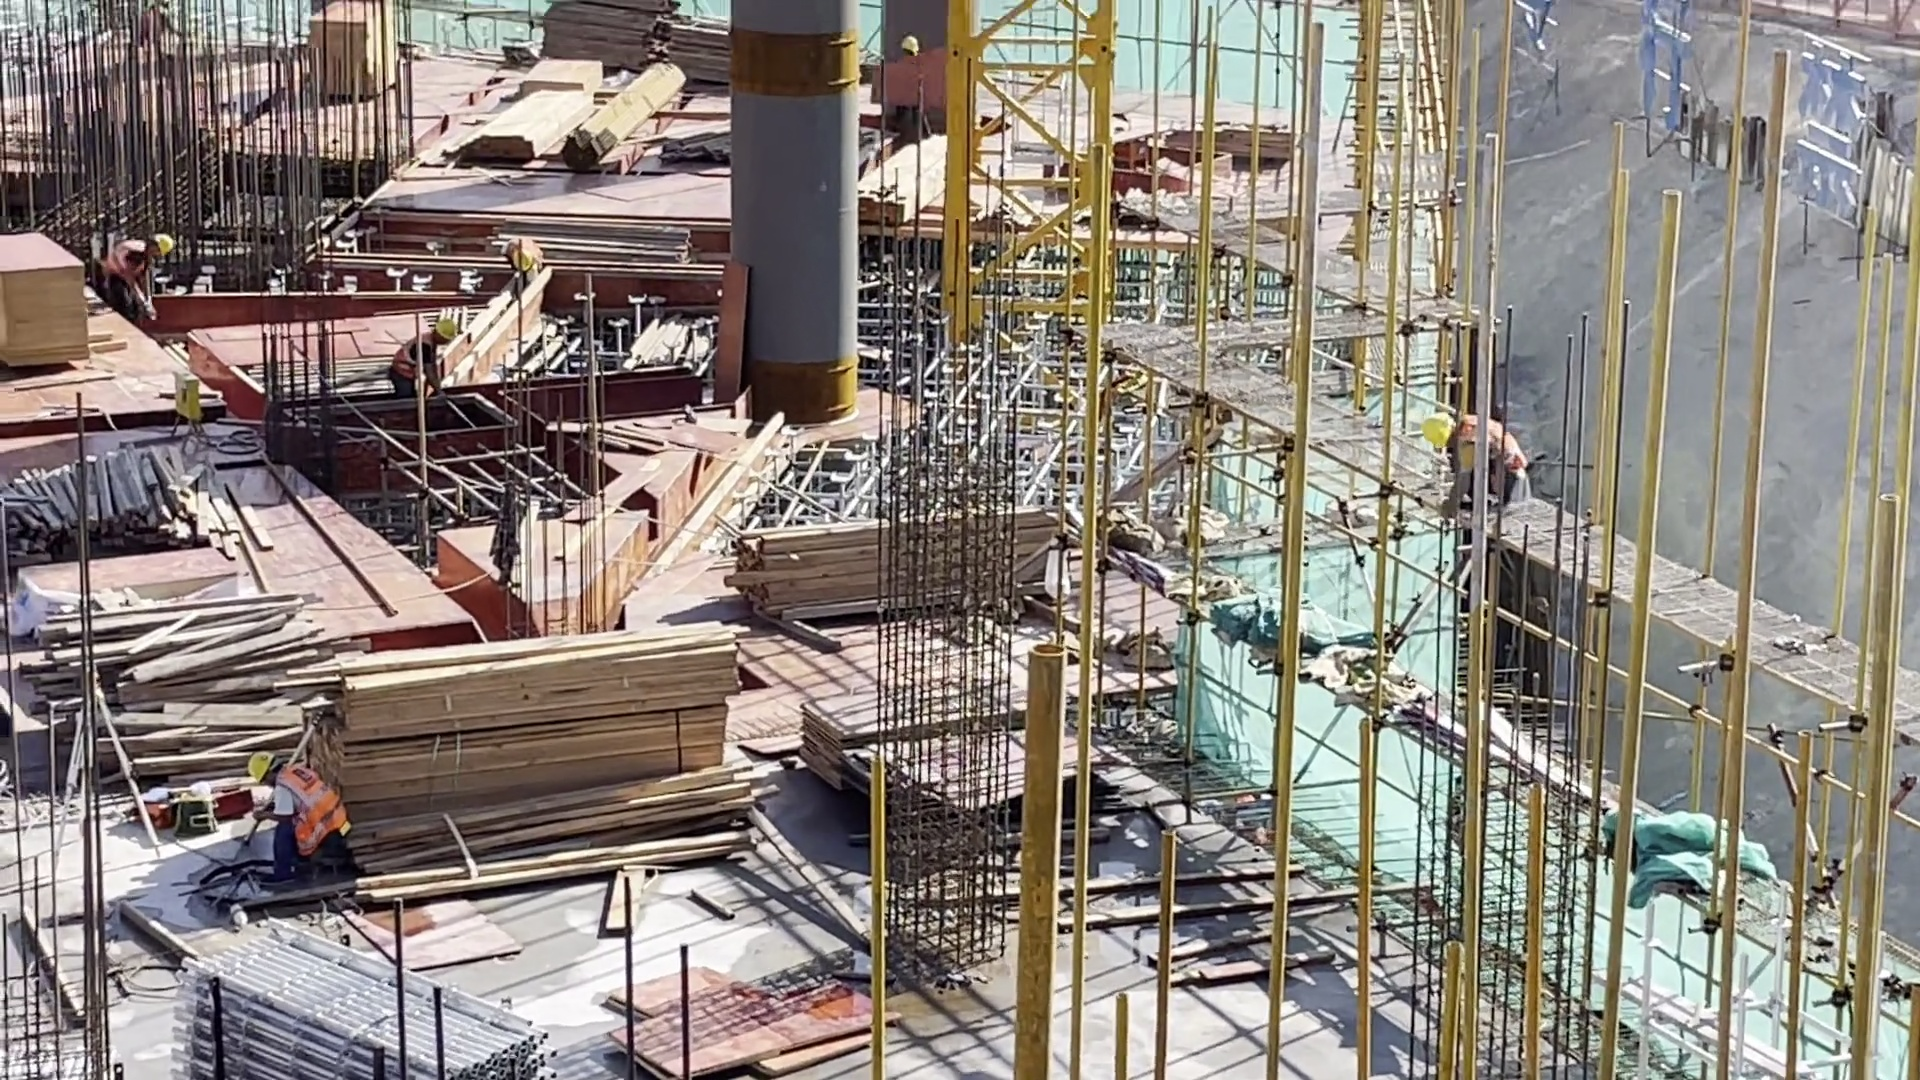board: (799, 678, 1023, 790), (859, 737, 1123, 827), (2, 225, 92, 379), (305, 1, 398, 100)
helmet: (1424, 416, 1452, 446), (249, 751, 273, 785), (434, 320, 455, 341), (512, 251, 531, 272), (902, 34, 919, 54), (158, 233, 171, 259)
person: (248, 748, 360, 887), (1423, 400, 1530, 522), (108, 224, 174, 309), (396, 316, 459, 398), (499, 237, 552, 289)
scaffold: (166, 919, 559, 1080)
slogan: (1618, 1, 1878, 239)
vest: (280, 768, 344, 853), (1454, 413, 1526, 484), (107, 238, 143, 296), (394, 333, 431, 382)
wood: (272, 627, 762, 891), (43, 598, 332, 774), (721, 499, 1069, 634), (20, 455, 273, 565), (470, 71, 596, 161), (862, 127, 951, 241)
